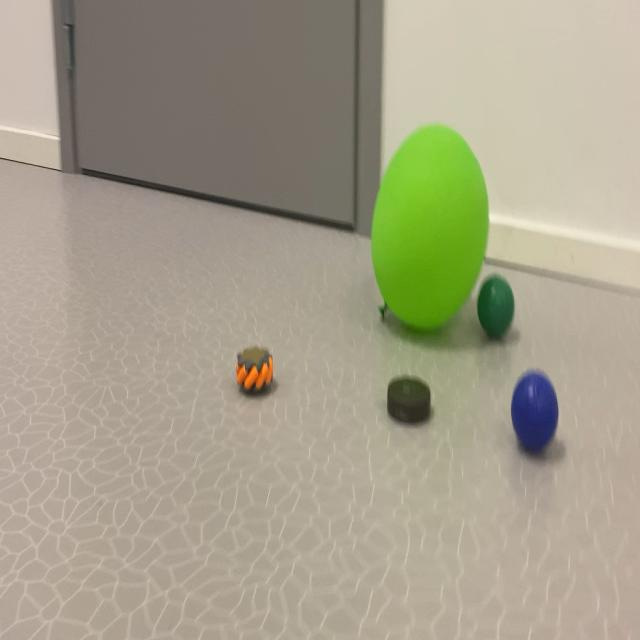green ball: (507, 359, 564, 479)
red ball: (477, 264, 526, 358)
